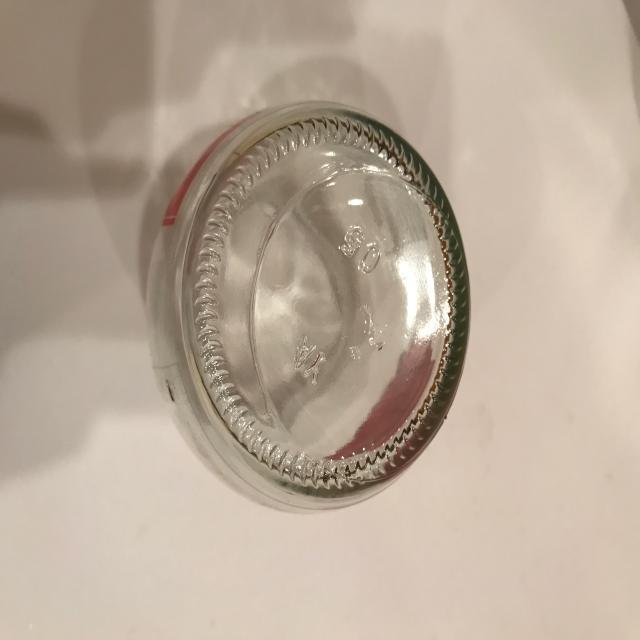glass: (146, 100, 473, 518)
